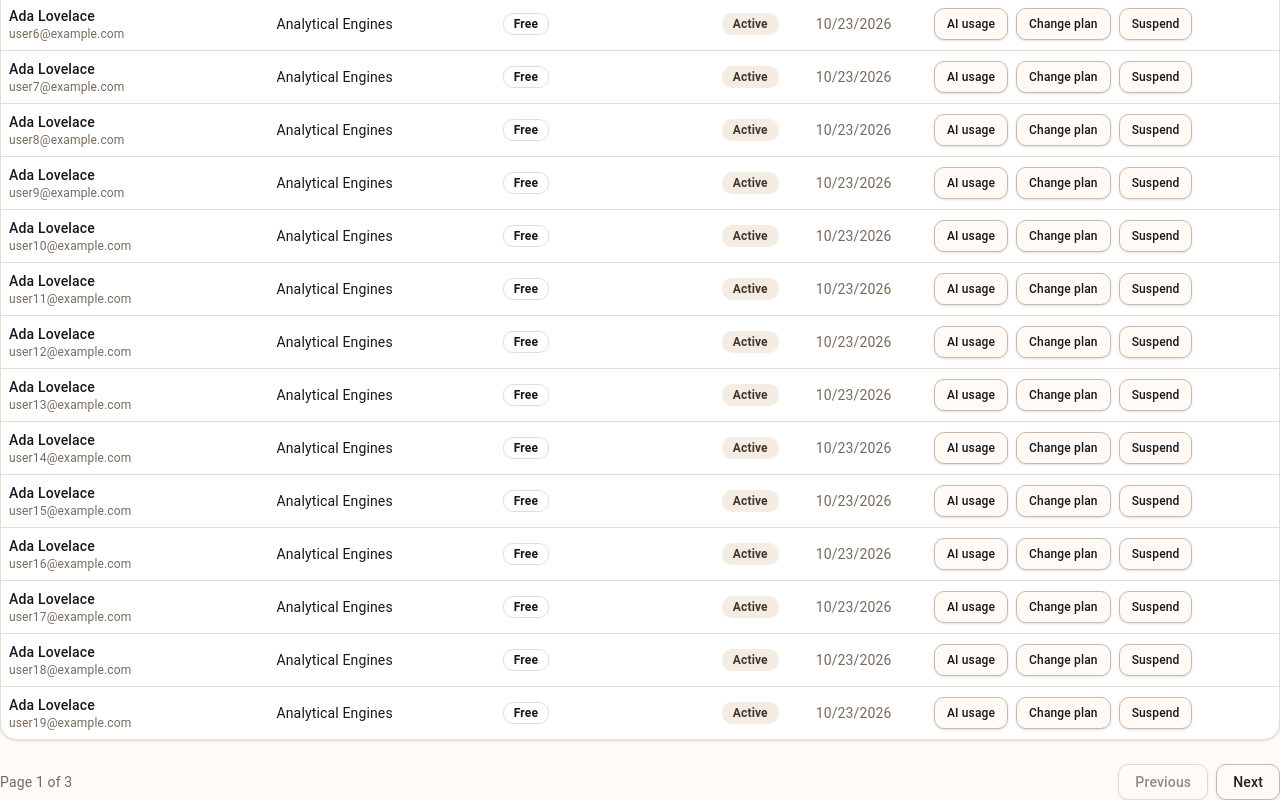
Test case: AdminUsersTable › loads 20 users per server page and reaches users beyond the first 20
Later steps or results of the test are not shown.
(page scrolled)
Expected: the text "user19@example.com" is shown, [9,716,131,730]
What coordinates should you click on to do the following:
click the button "Next"
I would click on:
 (1248, 782)
Its box is [1216,764,1279,799].
(page scrolled)
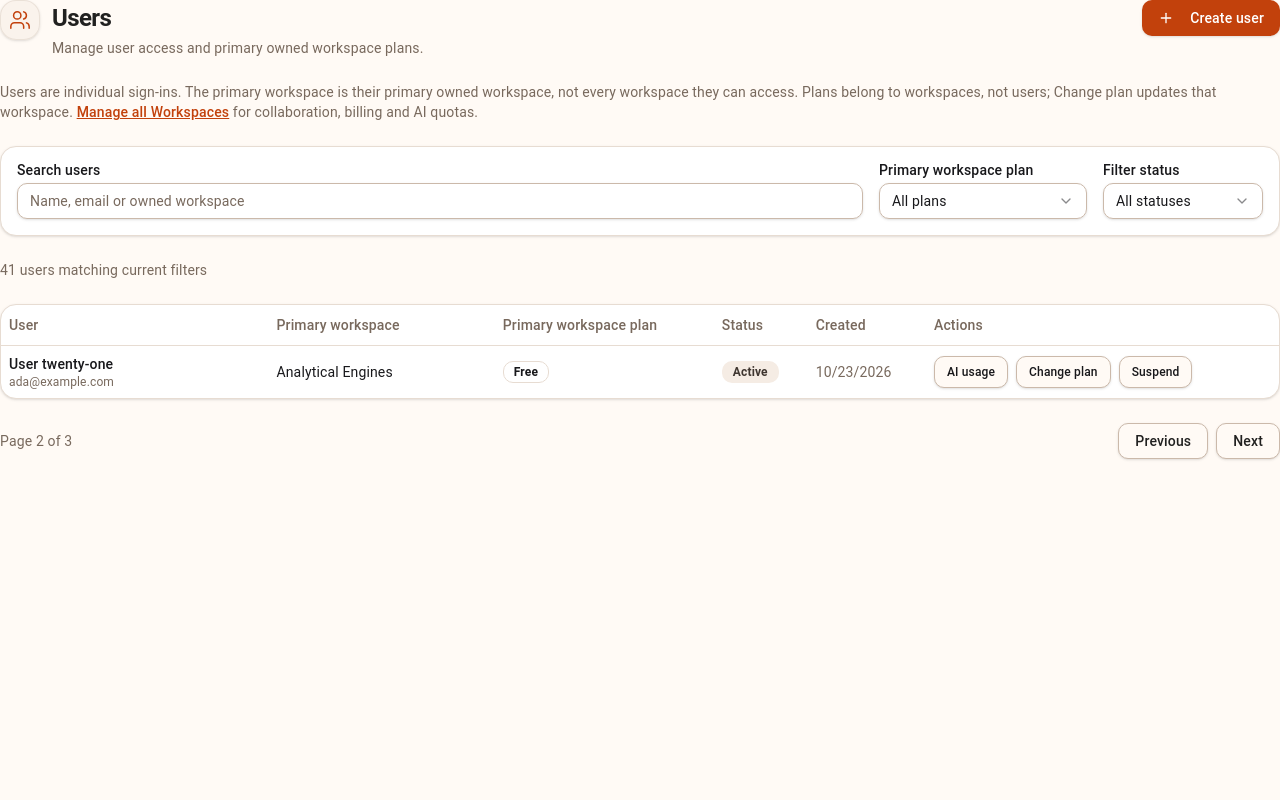
Now the text "User twenty-one" is shown, box [9,356,113,372]
Now the text "Page 2 of 3" is shown, box [0,430,72,450]
